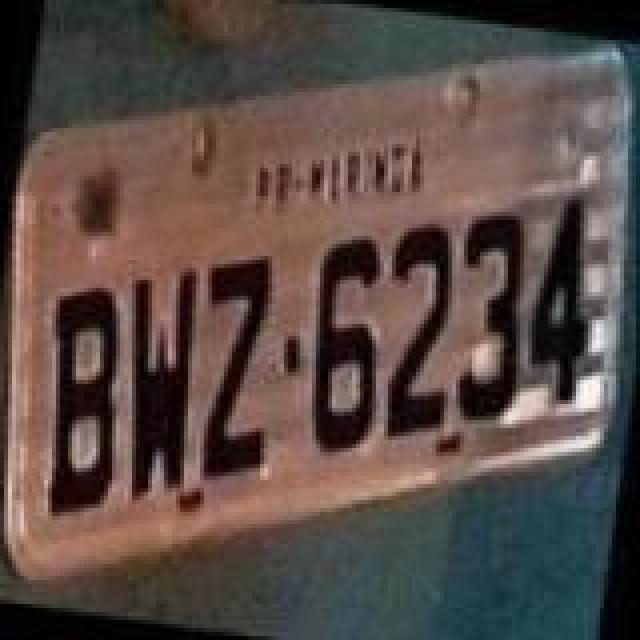2: (362, 214, 474, 450)
3: (432, 196, 540, 424)
4: (512, 184, 604, 408)
6: (286, 222, 398, 458)
B: (24, 274, 144, 526)
W: (98, 254, 214, 510)
Z: (176, 242, 296, 490)
